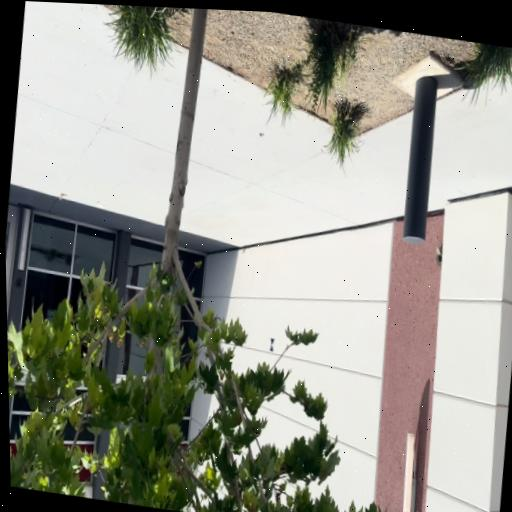target7: (269, 338, 275, 352)
